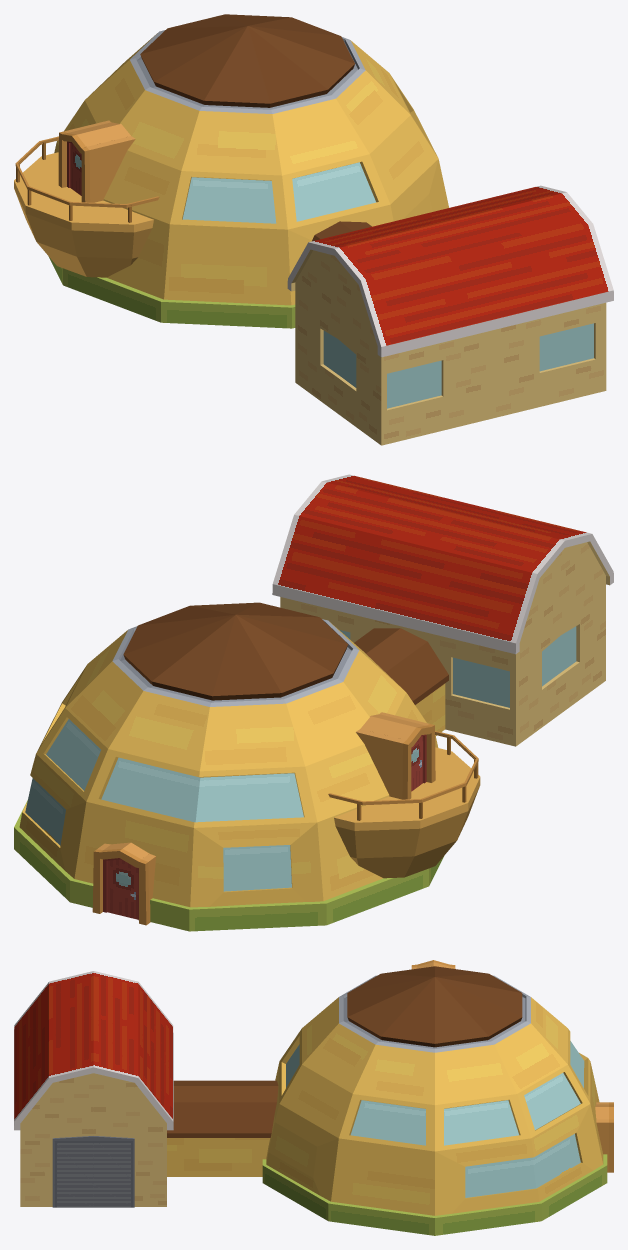
File: f.nps_spherehouse_1.gltf
3 views of the same model, one above another, from view 1: azimuth 30°, elevation 25°; view 2: azimuth 150°, elevation 25°; view 3: azimuth 270°, elevation 25° (orthographic). The views are drawn at different scales.
Visible parts, largest first — view 1: s1_1, s1_dop; view 2: s1_1, s1_dop, s1_2; view 3: s1_1, s1_dop, s1_2.
Boxes of the visible parts, box(x1,y1,x2,y2) form: s1_1: box(14, 14, 448, 328); s1_dop: box(287, 185, 613, 445); s1_1: box(14, 602, 480, 931); s1_dop: box(272, 474, 613, 746); s1_2: box(354, 628, 448, 735); s1_1: box(262, 960, 613, 1235); s1_dop: box(14, 971, 173, 1207); s1_2: box(167, 1080, 278, 1176).
Size of the model in its own units: 5.08 by 2.57 by 7.64.
Materials: 2 (2 with a texture image).
